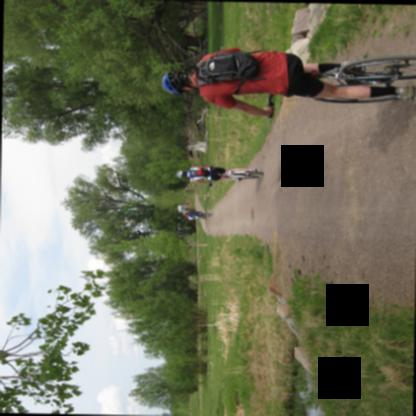backpack: (195, 50, 261, 86), (189, 168, 209, 176), (186, 209, 198, 215)
